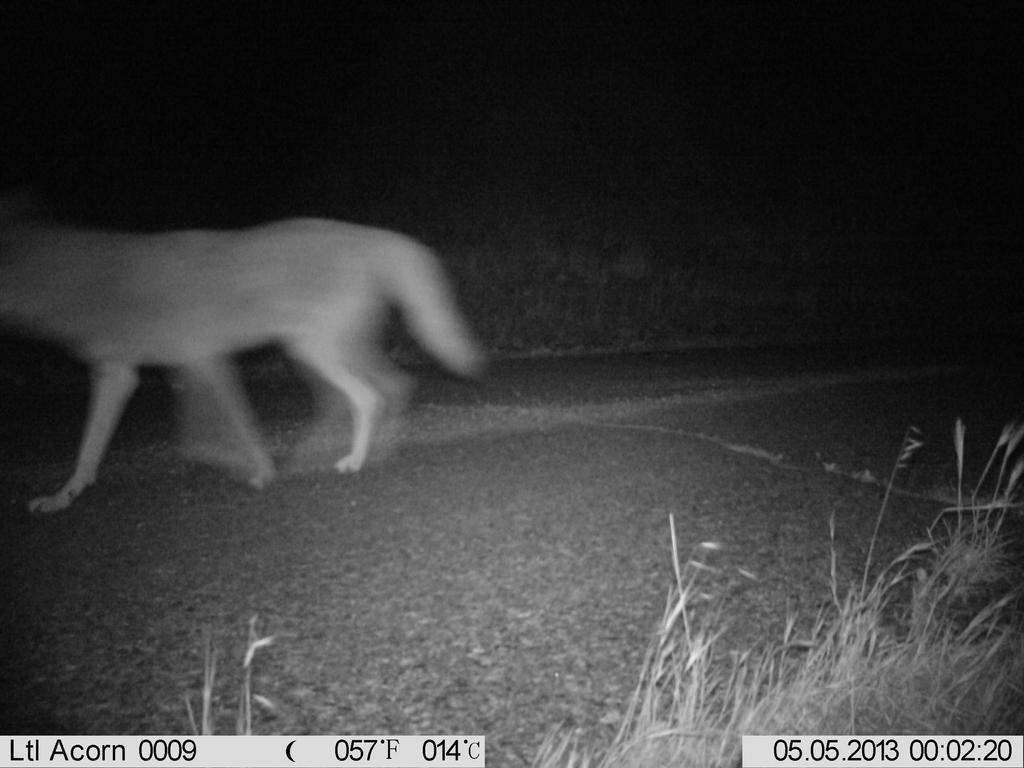coyote: (3, 200, 514, 527)
